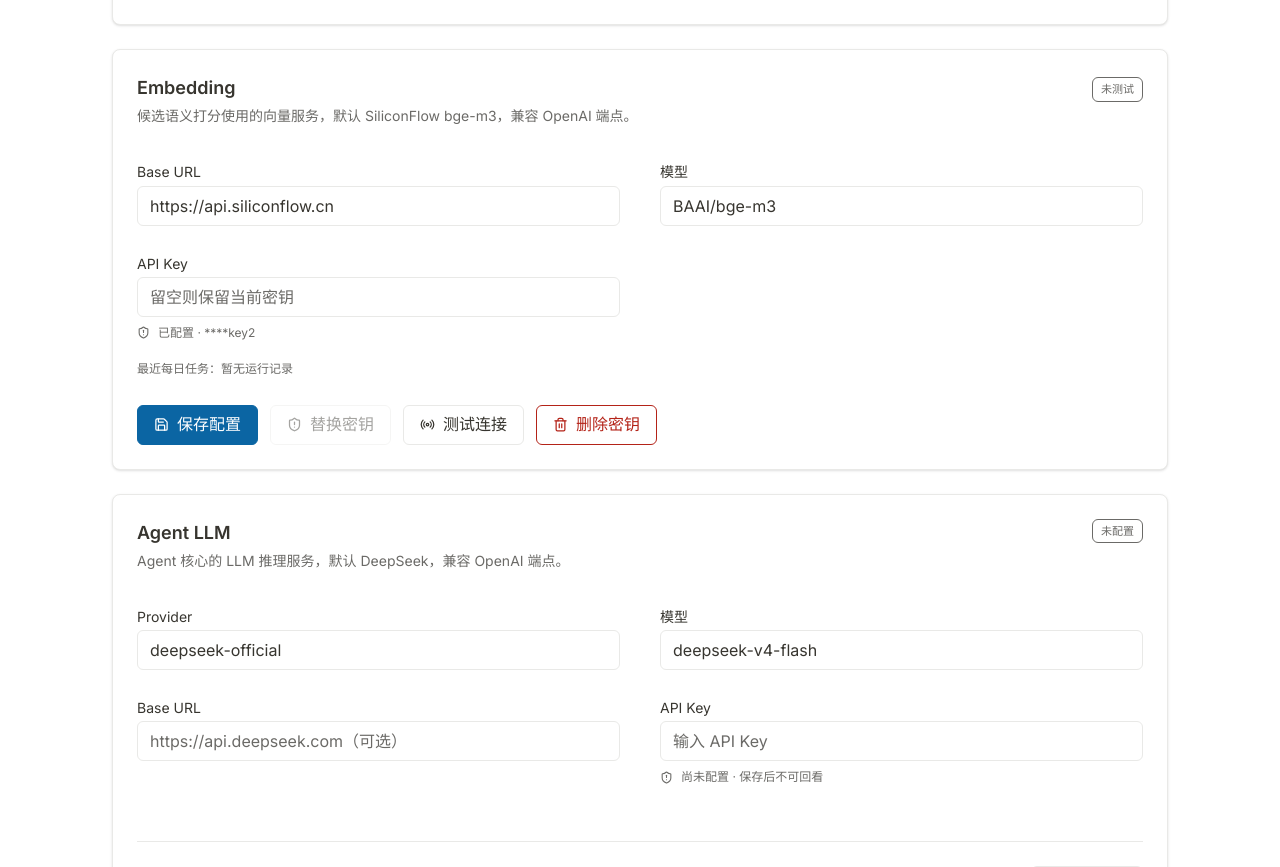
Integration providers › updates the card locally when the connection test fails (#179)
The width and height of the screenshot is (1280, 867).
(page scrolled)
Click the button with aria-label "测试Embedding连接": (464, 425) [403, 405, 524, 445]
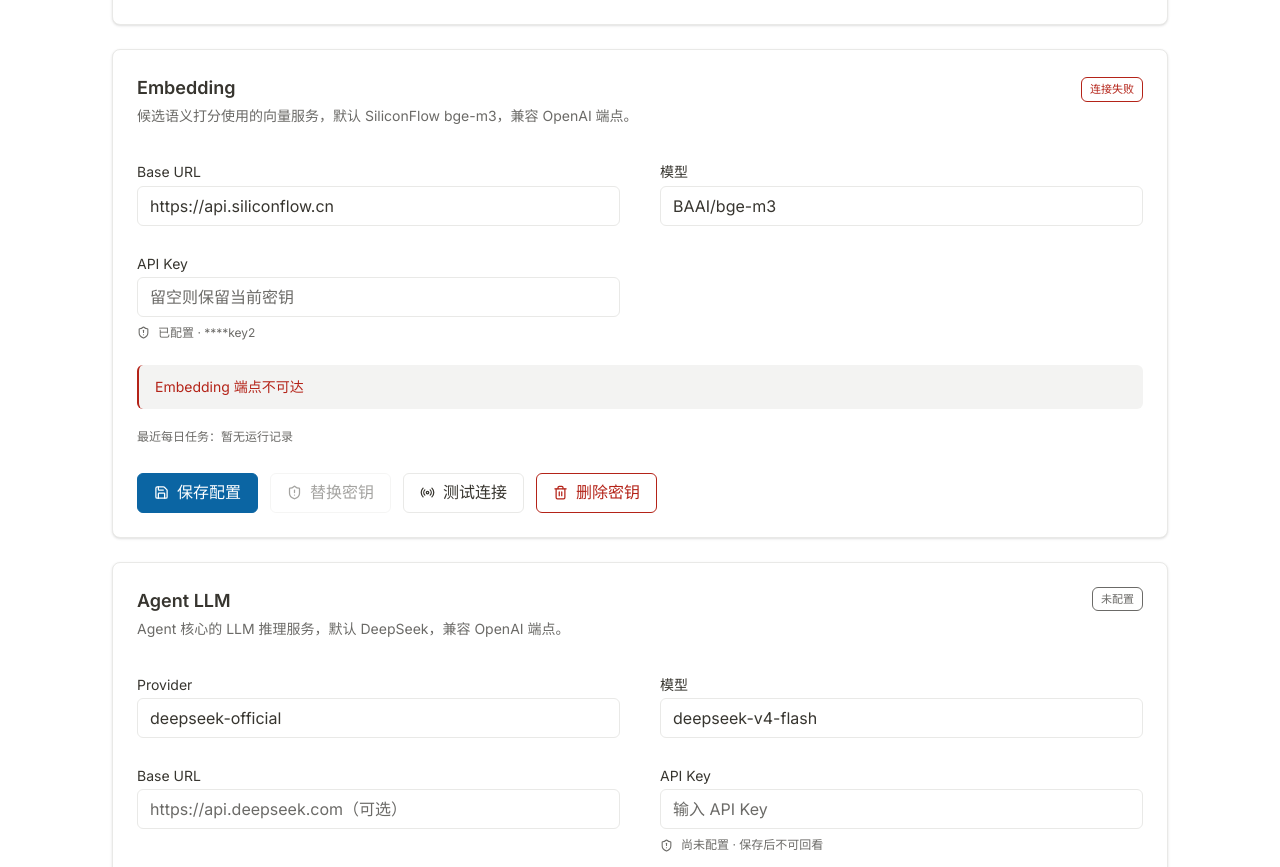
Result: the text "连接失败" is shown at [1081, 77, 1143, 102]
Result: the message reads "Embedding 端点不可达" at [155, 378, 304, 395]
